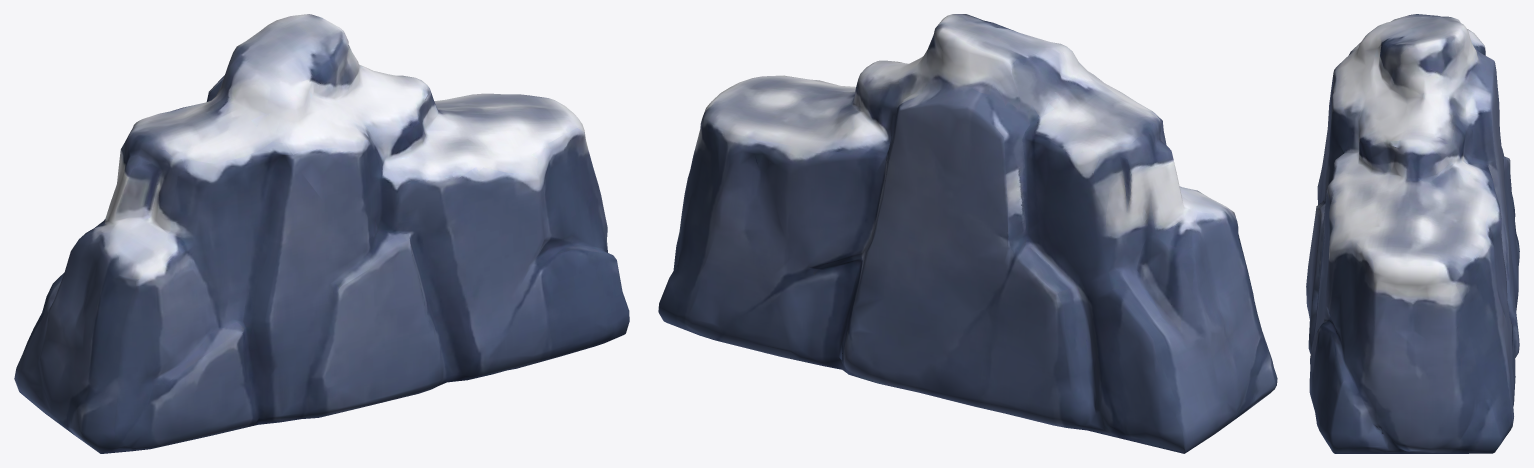
Rendered from SM_Env_FrostCliff.glb.
The picture shows the model from 3 angles, left to right: view 1: azimuth 30°, elevation 25°; view 2: azimuth 150°, elevation 25°; view 3: azimuth 270°, elevation 25°; orthographic projection. The views are drawn at different scales.
Visible parts, largest first — view 1: SM_Env_FrostCliff_LOD0; view 2: SM_Env_FrostCliff_LOD0; view 3: SM_Env_FrostCliff_LOD0.
Part boxes in pixels (box(x1,y1,x2,y2)): SM_Env_FrostCliff_LOD0: box(14, 14, 629, 453); SM_Env_FrostCliff_LOD0: box(658, 14, 1277, 453); SM_Env_FrostCliff_LOD0: box(1306, 14, 1519, 453).
Size of the model in its own units: 14.5 by 8.57 by 5.41.
1 material, 1 textured.
